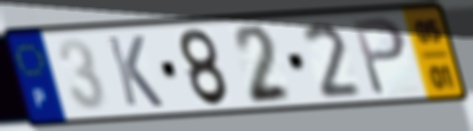2: (231, 22, 295, 107), (300, 19, 365, 101)
3: (57, 35, 107, 114)
8: (177, 26, 230, 108)
K: (103, 33, 167, 110)
P: (349, 14, 409, 99)
